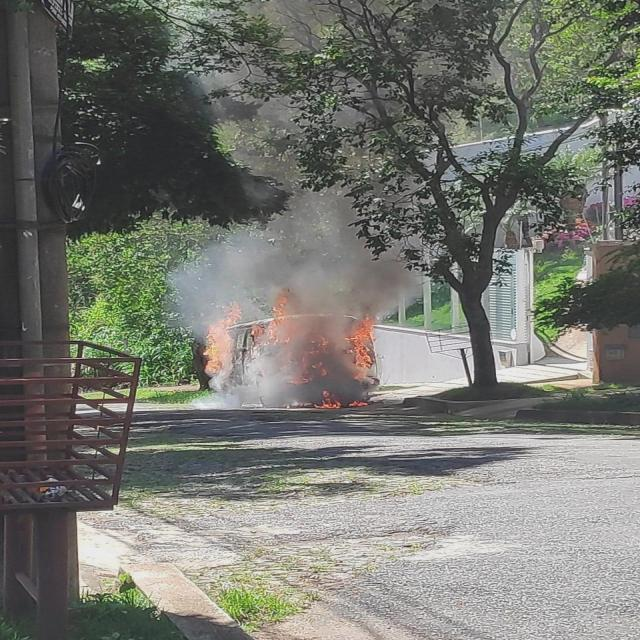Fire: (200, 292, 374, 384), (312, 392, 370, 410)
Smoke: (162, 1, 520, 295)
